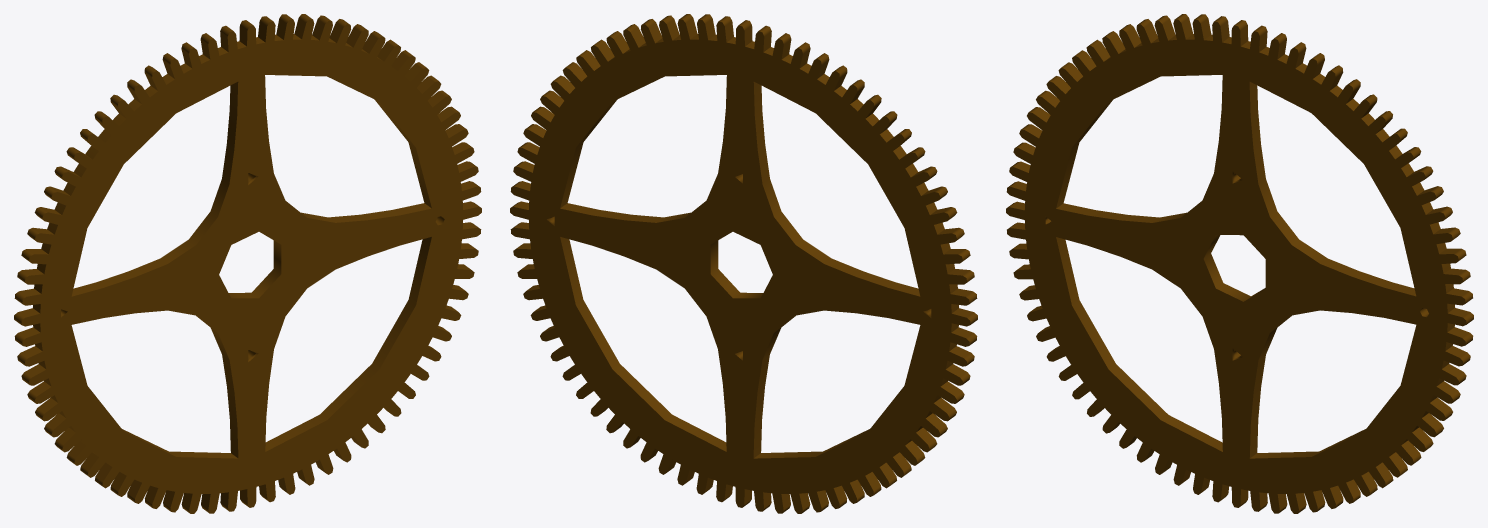
File: Roue dente_Roue limacon Heures.obj
3 renders of one model, left to right at view 1: azimuth 30°, elevation 25°; view 2: azimuth 150°, elevation 25°; view 3: azimuth 330°, elevation 25°, orthographic.
Visible parts, largest first — view 1: Face_1, Face_298, Face_304, Face_305, Face_303, Face_299, Face_307, Face_293, Face_294; view 2: Face_2, Face_298, Face_304, Face_305, Face_303, Face_299, Face_307, Face_293, Face_294; view 3: Face_1, Face_302, Face_292, Face_291, Face_293, Face_297, Face_307, Face_303, Face_306.
Part boxes in pixels (x1,y1,x2,y2): Face_1: (21, 19, 481, 513); Face_298: (265, 237, 431, 451); Face_304: (160, 179, 229, 263); Face_305: (222, 82, 238, 183); Face_303: (71, 258, 167, 296); Face_299: (222, 355, 238, 457); Face_307: (228, 240, 281, 298); Face_293: (328, 203, 431, 222); Face_294: (374, 99, 431, 208); Face_2: (510, 19, 970, 513); Face_298: (560, 237, 726, 451); Face_304: (762, 179, 831, 263); Face_305: (753, 82, 769, 183); Face_303: (824, 258, 920, 296); Face_299: (753, 355, 769, 457); Face_307: (710, 240, 763, 298); Face_293: (560, 203, 663, 222); Face_294: (560, 99, 617, 208); Face_1: (1006, 19, 1466, 513); Face_302: (1056, 237, 1222, 451); Face_292: (1258, 179, 1327, 263); Face_291: (1249, 82, 1265, 183); Face_293: (1320, 258, 1416, 296); Face_297: (1249, 355, 1265, 458); Face_307: (1203, 235, 1265, 301); Face_303: (1056, 203, 1159, 222); Face_306: (1056, 100, 1112, 208).
Size of the model in its own units: 0.0599 by 0.0599 by 0.0017.
